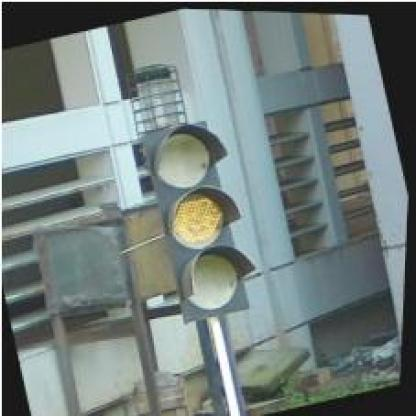yellow: (135, 108, 272, 324)
